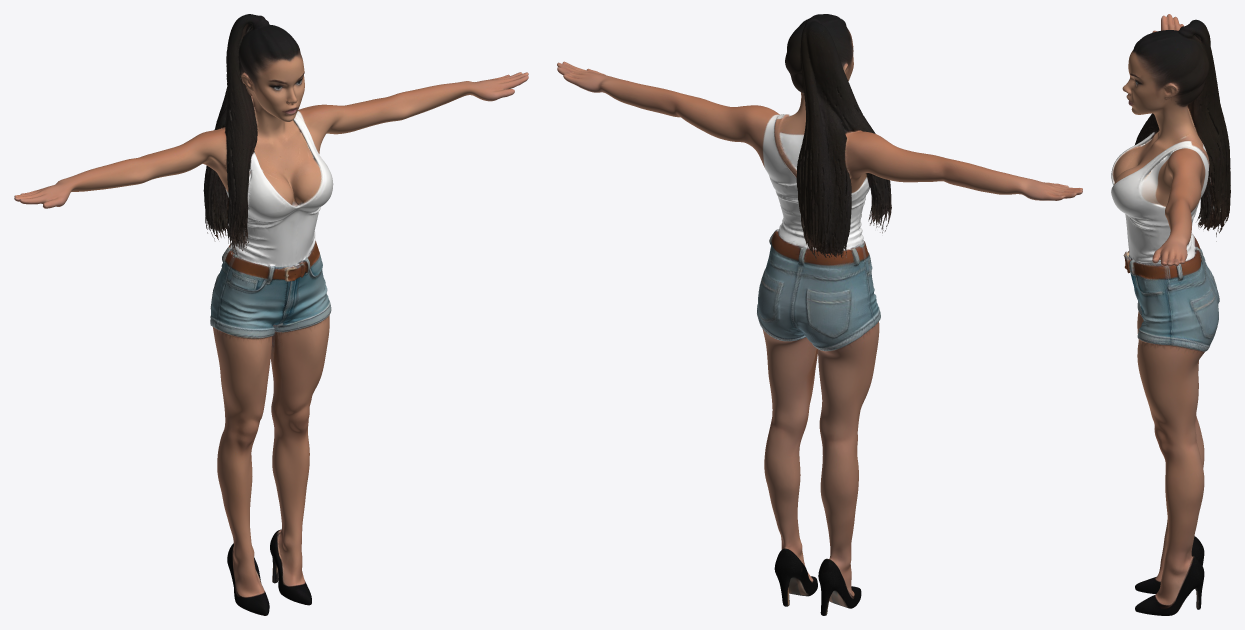
The picture shows the model from 3 angles, left to right: view 1: azimuth 30°, elevation 25°; view 2: azimuth 150°, elevation 25°; view 3: azimuth 270°, elevation 25°; orthographic projection. The views are drawn at different scales.
Parts seen in each view (by area): view 1: mesh_0; view 2: mesh_0; view 3: mesh_0.
Boxes of the visible parts, bbox=[...] form: mesh_0: bbox=[14, 14, 528, 615]; mesh_0: bbox=[557, 14, 1082, 615]; mesh_0: bbox=[1111, 14, 1230, 615].
Size of the model in its own units: 1.77 by 1.9 by 0.3586.
1 material, 1 textured.
